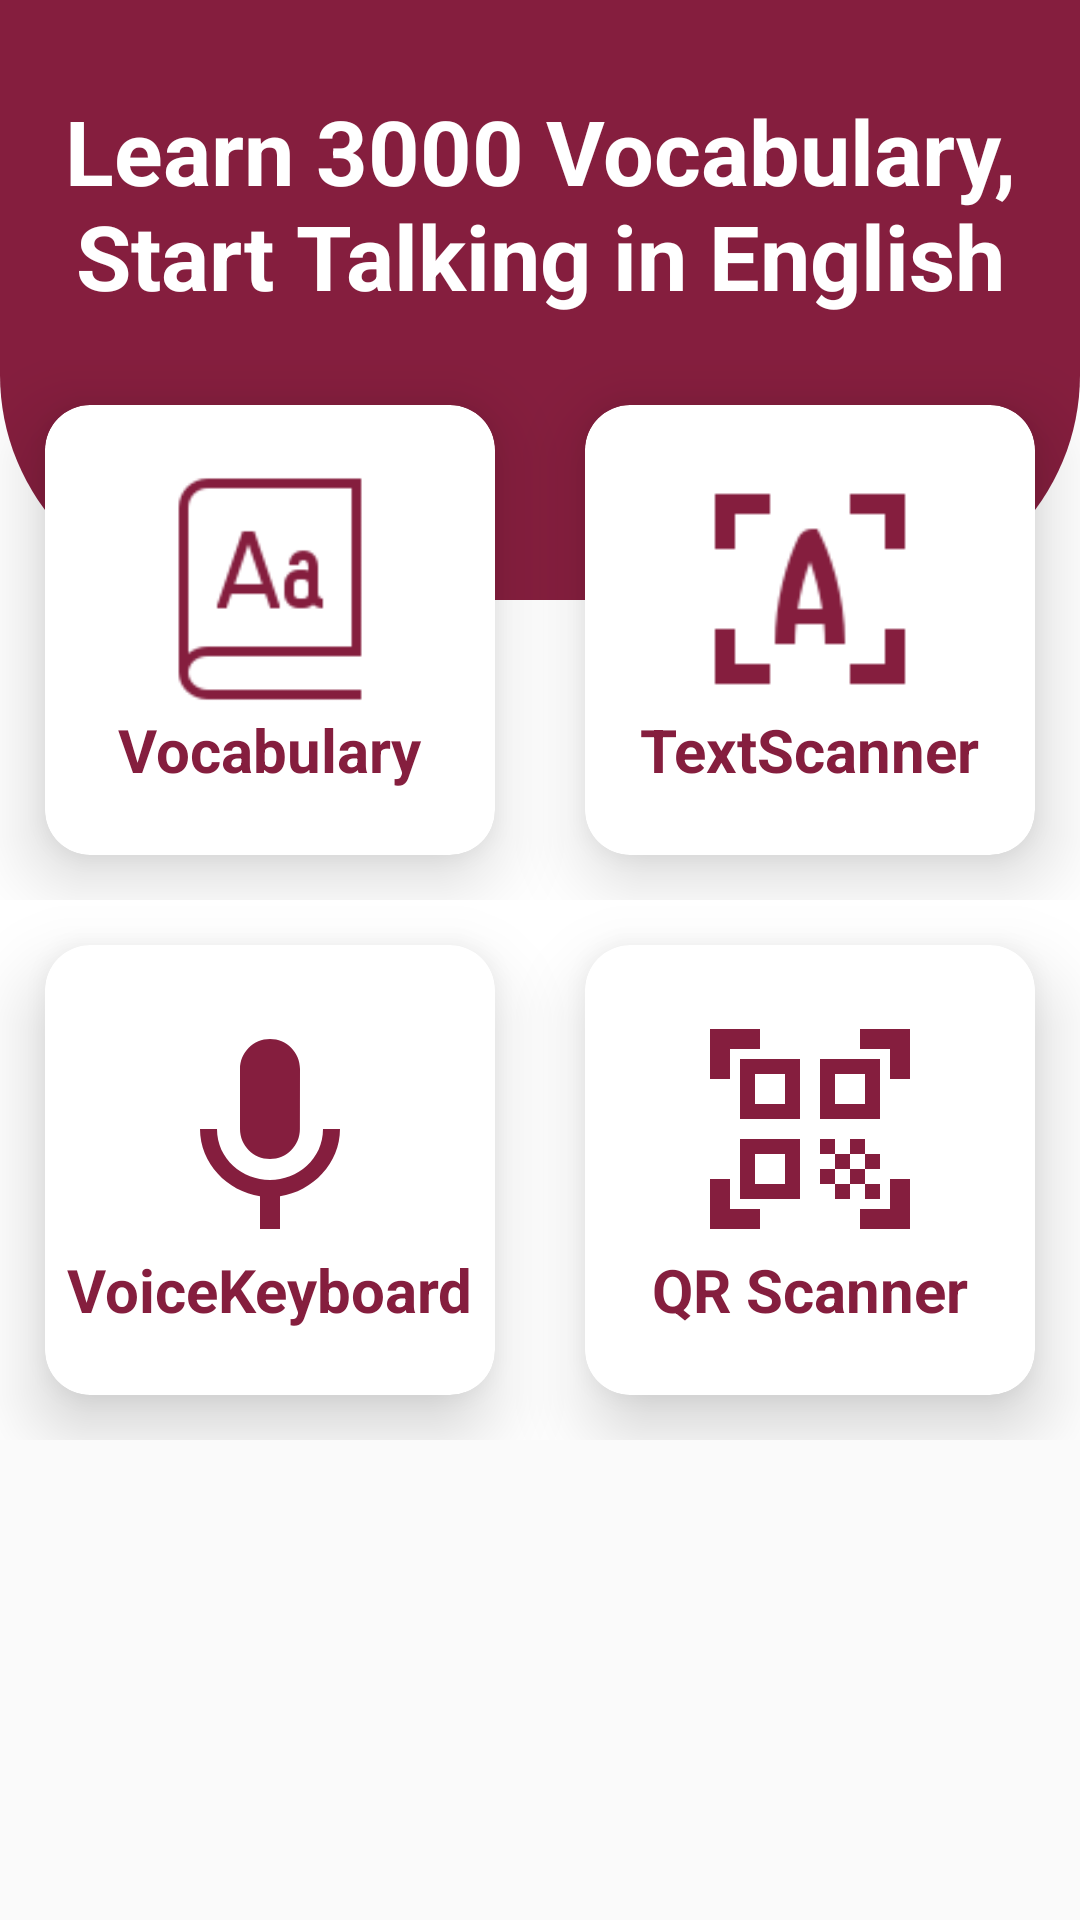

Icons on this 1080*1920 Android screen, each with its box as [left=x1, top=y1, right=x2, bottom=y2]:
dictionary: [left=178, top=478, right=362, bottom=700]
